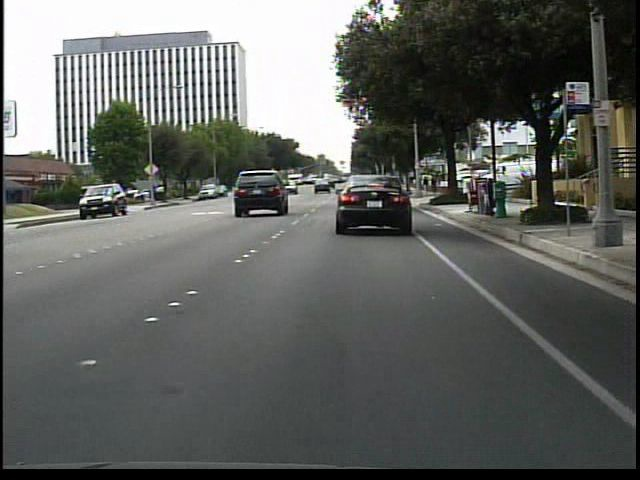person: (422, 173, 432, 195), (430, 174, 439, 194)
